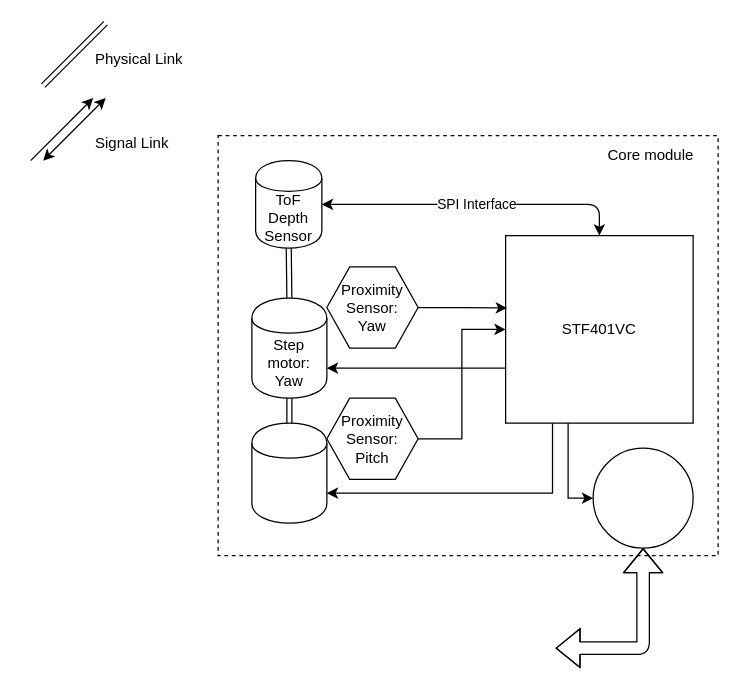
This 740x690 diagram has some shape labels left out. Each missing label, with the centre of its shape:
LAN Module: point (642, 497)
Step motor: Pitch: point (289, 472)
